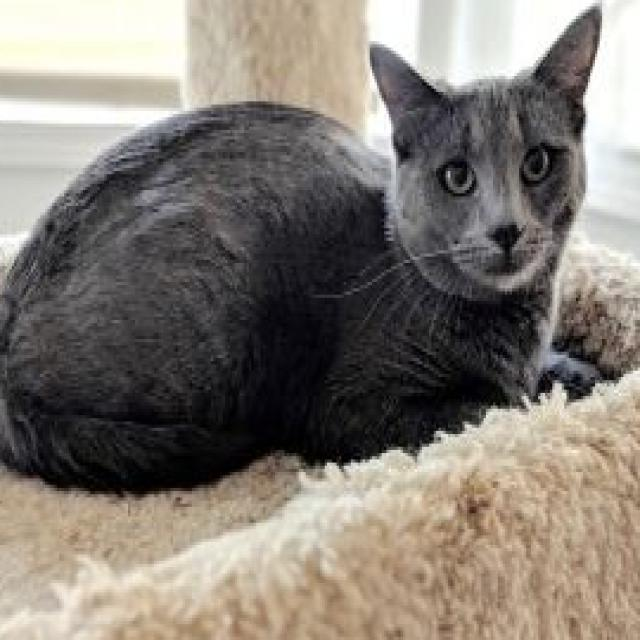Russian Blue: (0, 0, 612, 491)
